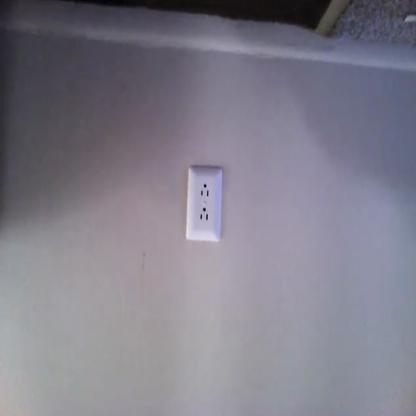OUTLET: (185, 166, 223, 241)
